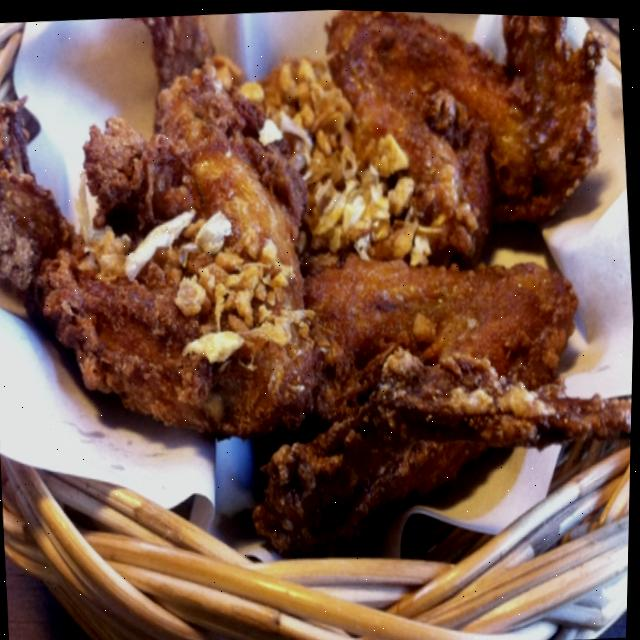鸡肉料理 含炸鸡: (0, 0, 633, 580)
